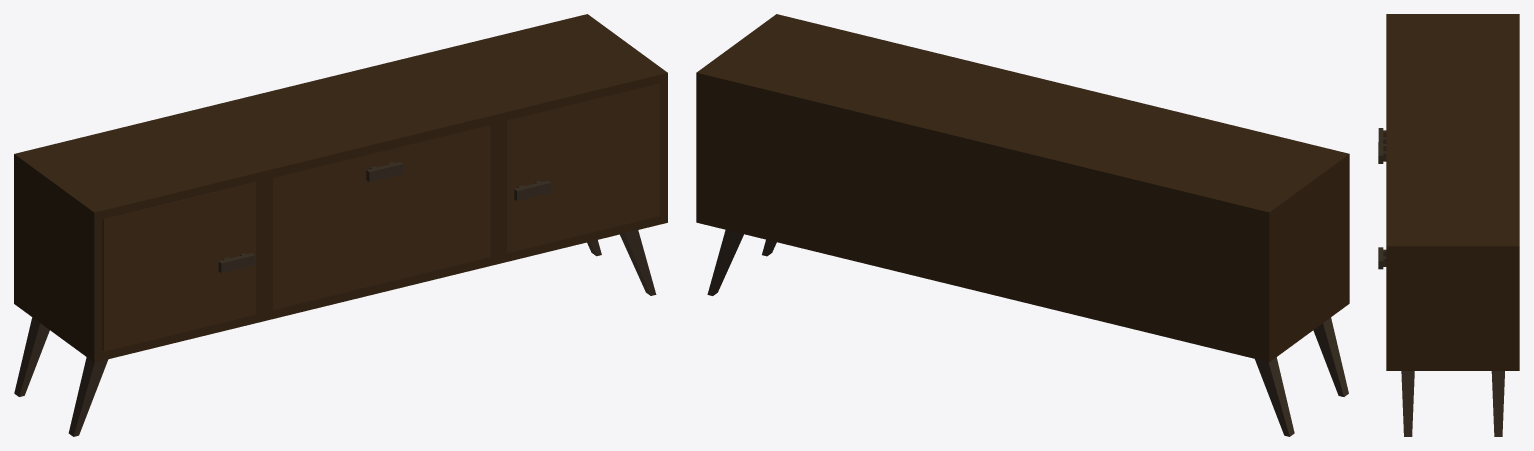
File: tvStand.glb
3 renders of one model, left to right at view 1: azimuth 30°, elevation 25°; view 2: azimuth 150°, elevation 25°; view 3: azimuth 270°, elevation 25°, orthographic. The views are drawn at different scales.
Visible parts, largest first — view 1: Hutch.001, Door 2, Door 1, Door 3, Legs.001; view 2: Hutch.001, Legs.001; view 3: Hutch.001, Legs.001, Door 3, Door 2.
Boxes of the visible parts, x1,y1,x2,y2 form: Hutch.001: (14, 14, 667, 362); Door 2: (273, 125, 490, 309); Door 1: (102, 182, 255, 351); Door 3: (507, 83, 659, 253); Legs.001: (14, 230, 656, 436); Hutch.001: (696, 14, 1349, 362); Legs.001: (707, 230, 1348, 436); Hutch.001: (1386, 14, 1519, 370); Legs.001: (1401, 371, 1504, 436); Door 3: (1378, 247, 1386, 269); Door 2: (1378, 142, 1386, 163).
Size of the model in its own units: 4.07 by 1.53 by 1.03.
